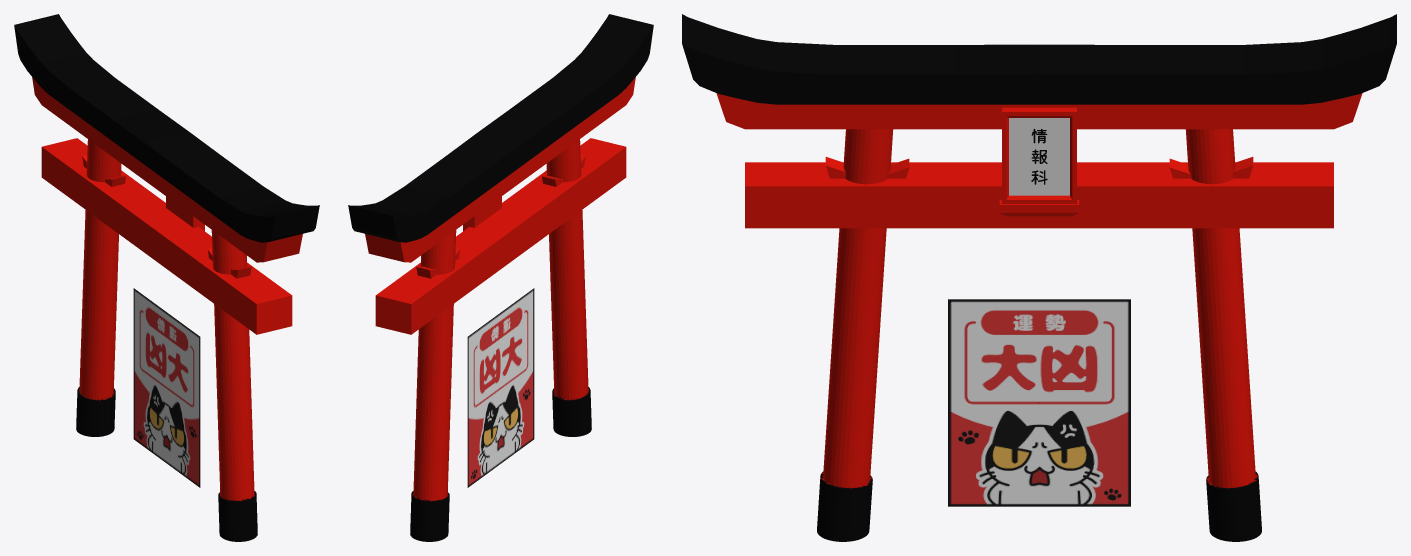
The model's file is daikyo.glb.
3 renders of one model, left to right at view 1: azimuth 30°, elevation 25°; view 2: azimuth 150°, elevation 25°; view 3: azimuth 270°, elevation 25°, orthographic. The views are drawn at different scales.
Visible parts, largest first — view 1: Cube, 大凶; view 2: Cube, 大凶; view 3: Cube, 大凶.
Part boxes in pixels (box(x1,y1,x2,y2)): Cube: box(14, 14, 319, 541); 大凶: box(133, 288, 200, 487); Cube: box(348, 14, 653, 541); 大凶: box(467, 288, 534, 487); Cube: box(682, 14, 1396, 541); 大凶: box(948, 299, 1130, 506).
Bounding box in the file's own units: 0.6617 × 4.84 × 6.25.
Materials: 4 (3 with a texture image).
